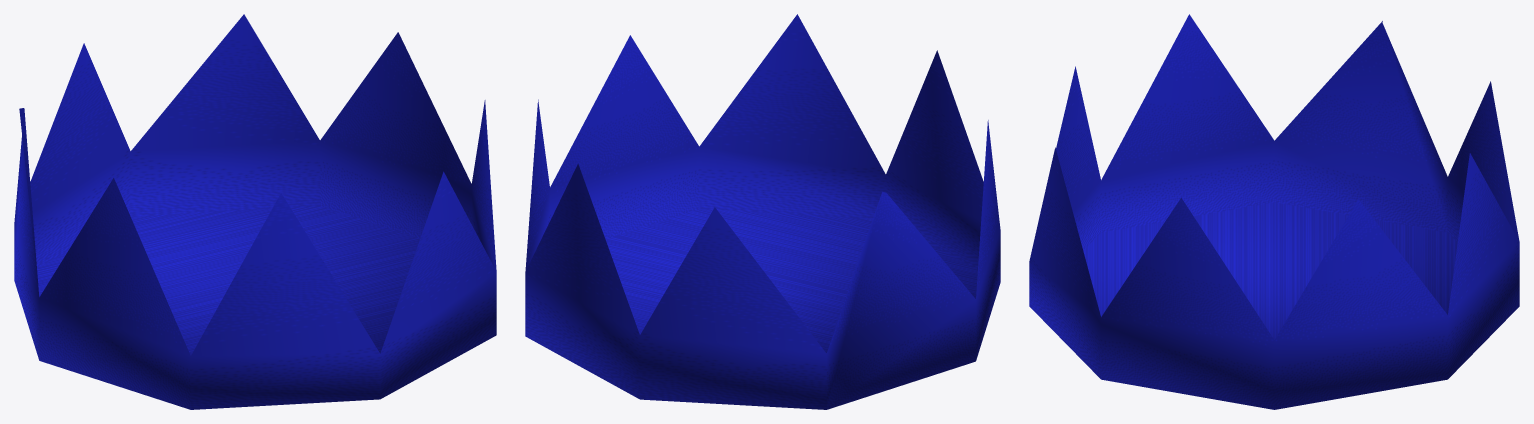
Rendered from OSRS_Party_Hat.glb.
3 renders of one model, left to right at view 1: azimuth 30°, elevation 25°; view 2: azimuth 150°, elevation 25°; view 3: azimuth 270°, elevation 25°, orthographic.
Visible parts, largest first — view 1: OSRS Party Hat; view 2: OSRS Party Hat; view 3: OSRS Party Hat.
Part boxes in pixels (x1,y1,x2,y2): OSRS Party Hat: (14, 14, 496, 409); OSRS Party Hat: (525, 14, 1000, 409); OSRS Party Hat: (1029, 14, 1519, 409).
Size of the model in its own units: 2.07 by 0.9524 by 2.07.
Materials: 1 (1 with a texture image).
